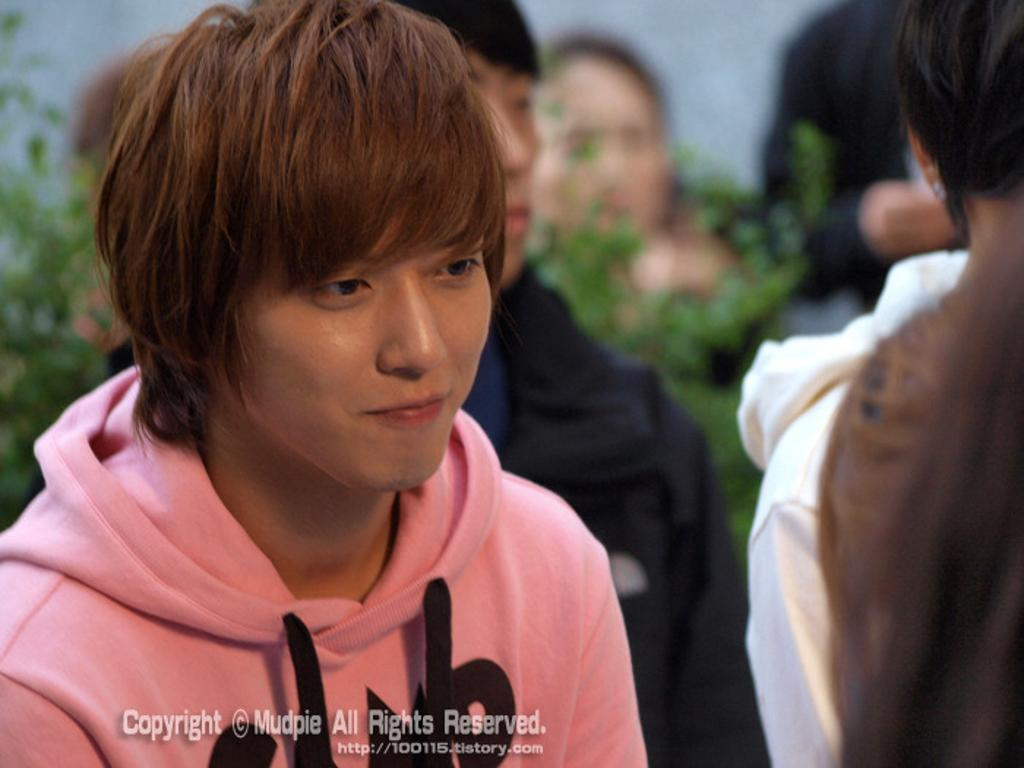face: (228, 94, 492, 492), (438, 32, 536, 286), (554, 54, 668, 234)
